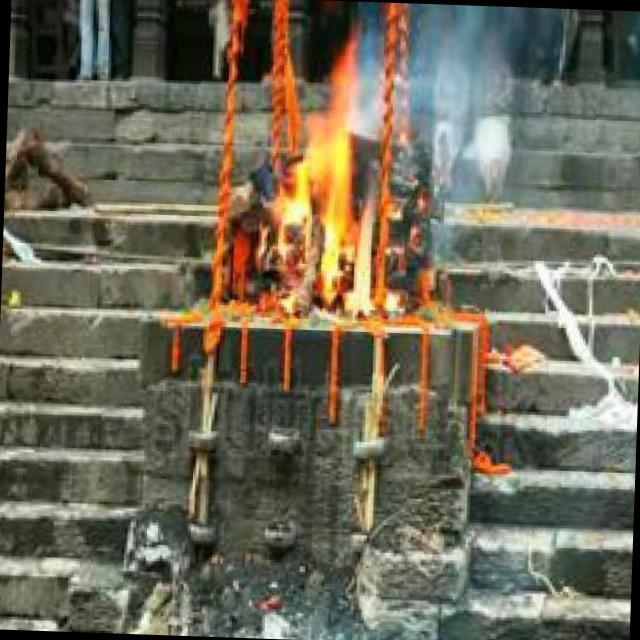Fire: (274, 54, 395, 321)
